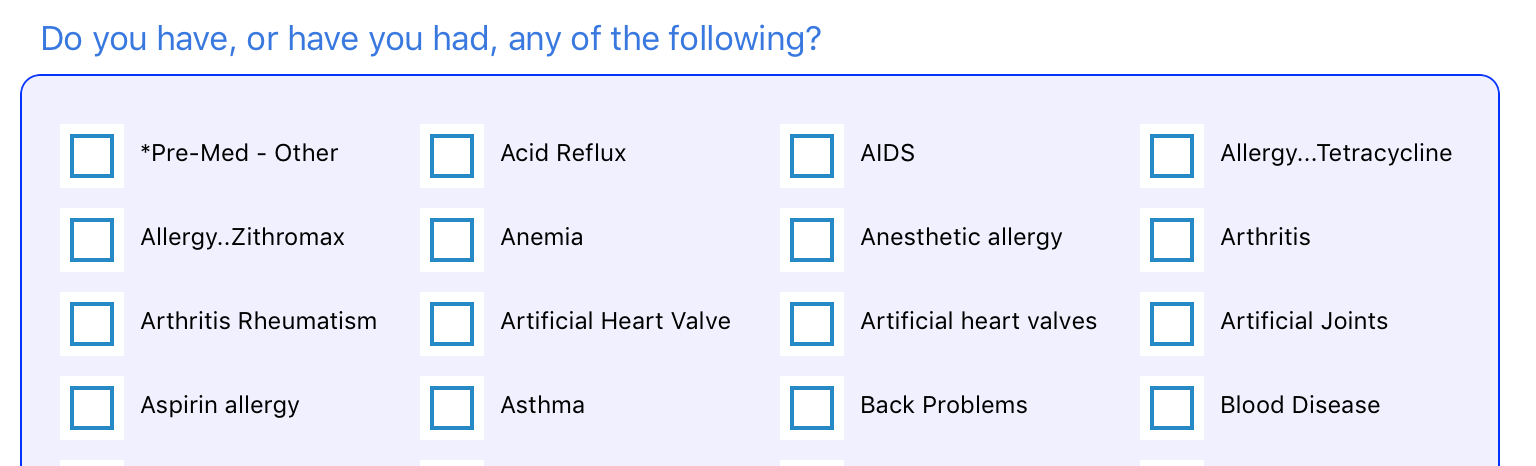checkbox: (64, 211, 119, 267), (1142, 380, 1199, 434), (784, 381, 842, 434), (63, 128, 119, 182), (1143, 127, 1199, 181), (1144, 212, 1198, 265), (64, 381, 119, 433), (786, 295, 838, 350), (1147, 296, 1198, 352), (425, 299, 479, 351), (787, 213, 838, 267), (67, 297, 119, 349), (426, 213, 478, 265), (786, 130, 838, 182), (426, 382, 479, 433), (427, 130, 477, 181)
